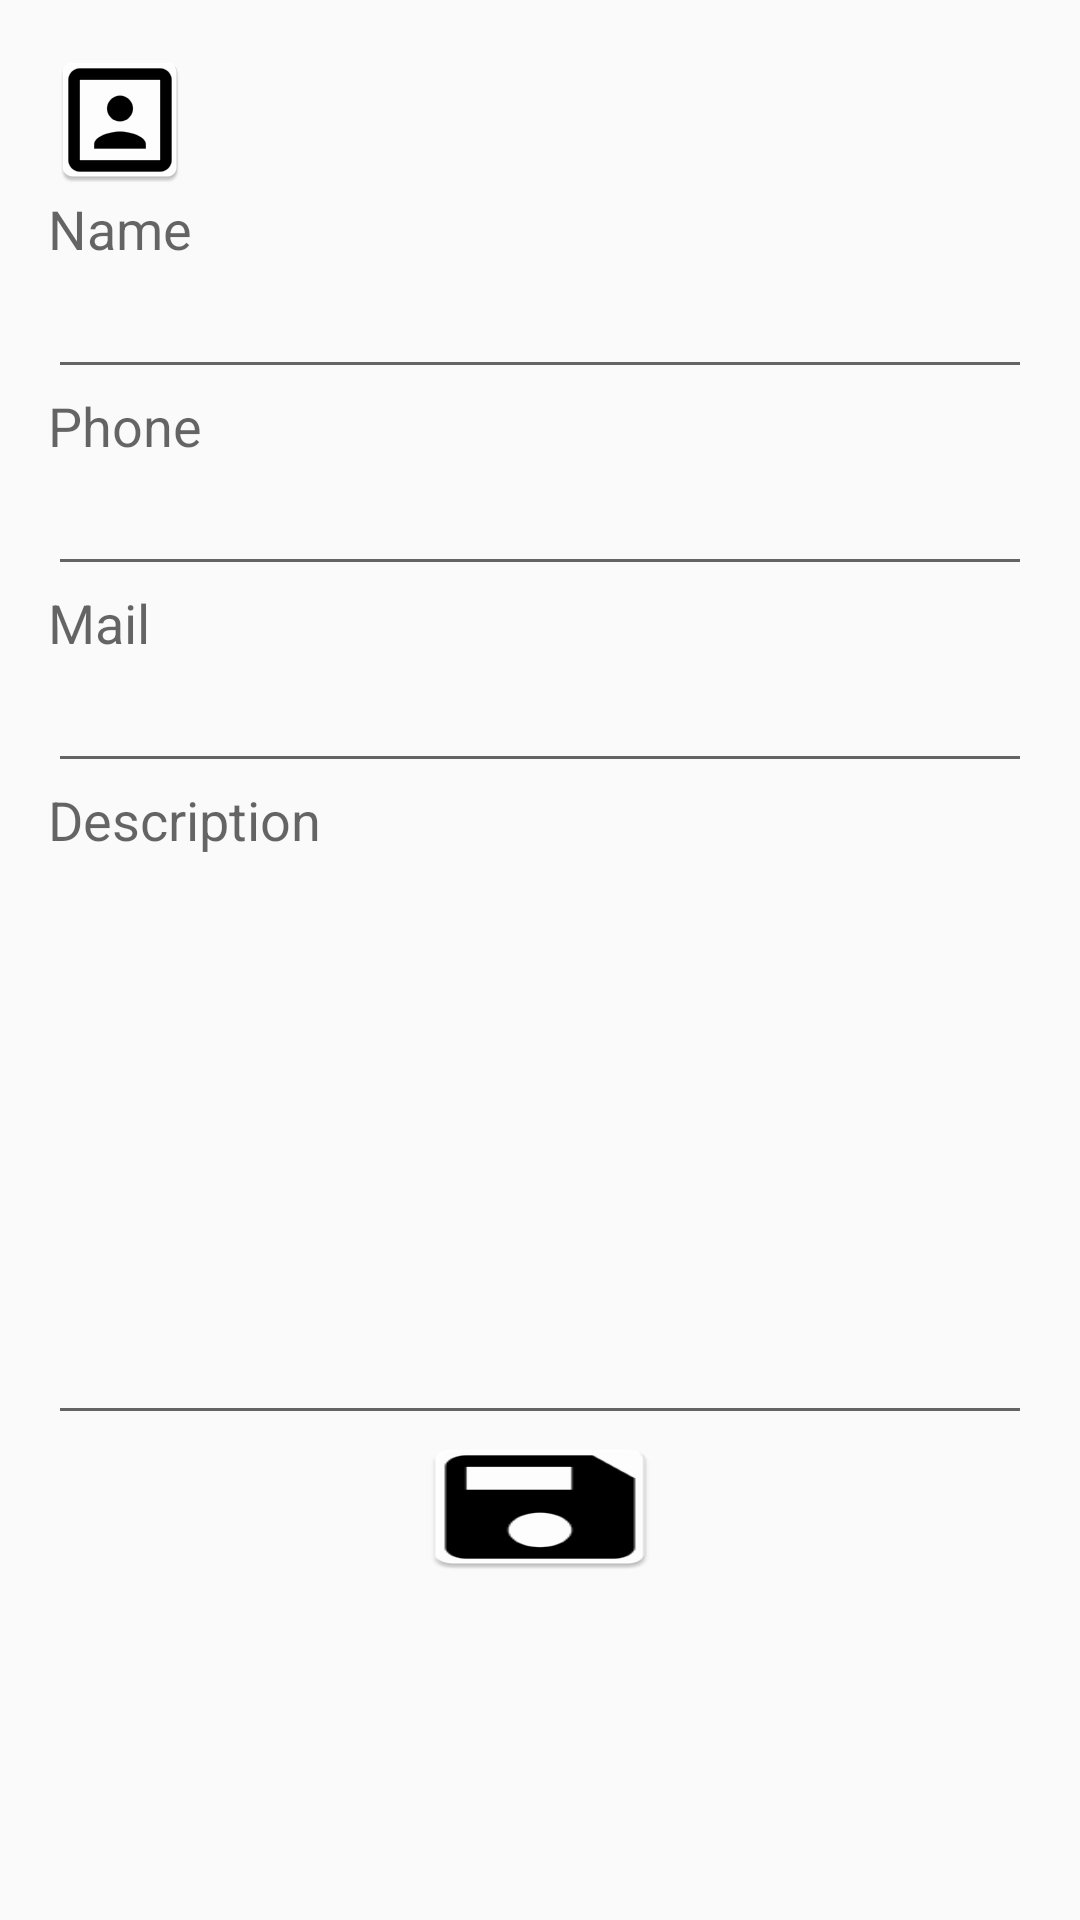

Point at icon controls on the screen. Image size 1080 × 1920, points as [x,y].
profile: [120,124]
save: [540,1511]
